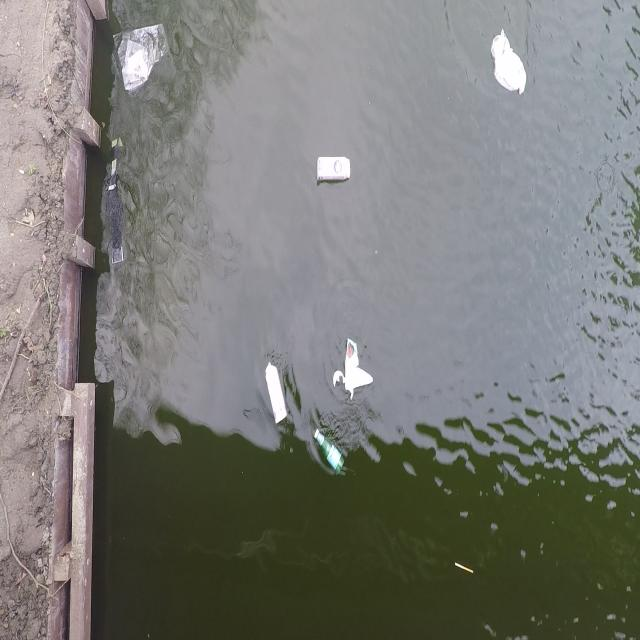Bouteille plastique: (311, 422, 348, 482)
Non plastique: (259, 352, 293, 430), (310, 148, 356, 188)
Sac plastique: (109, 16, 174, 104), (485, 22, 532, 102)
